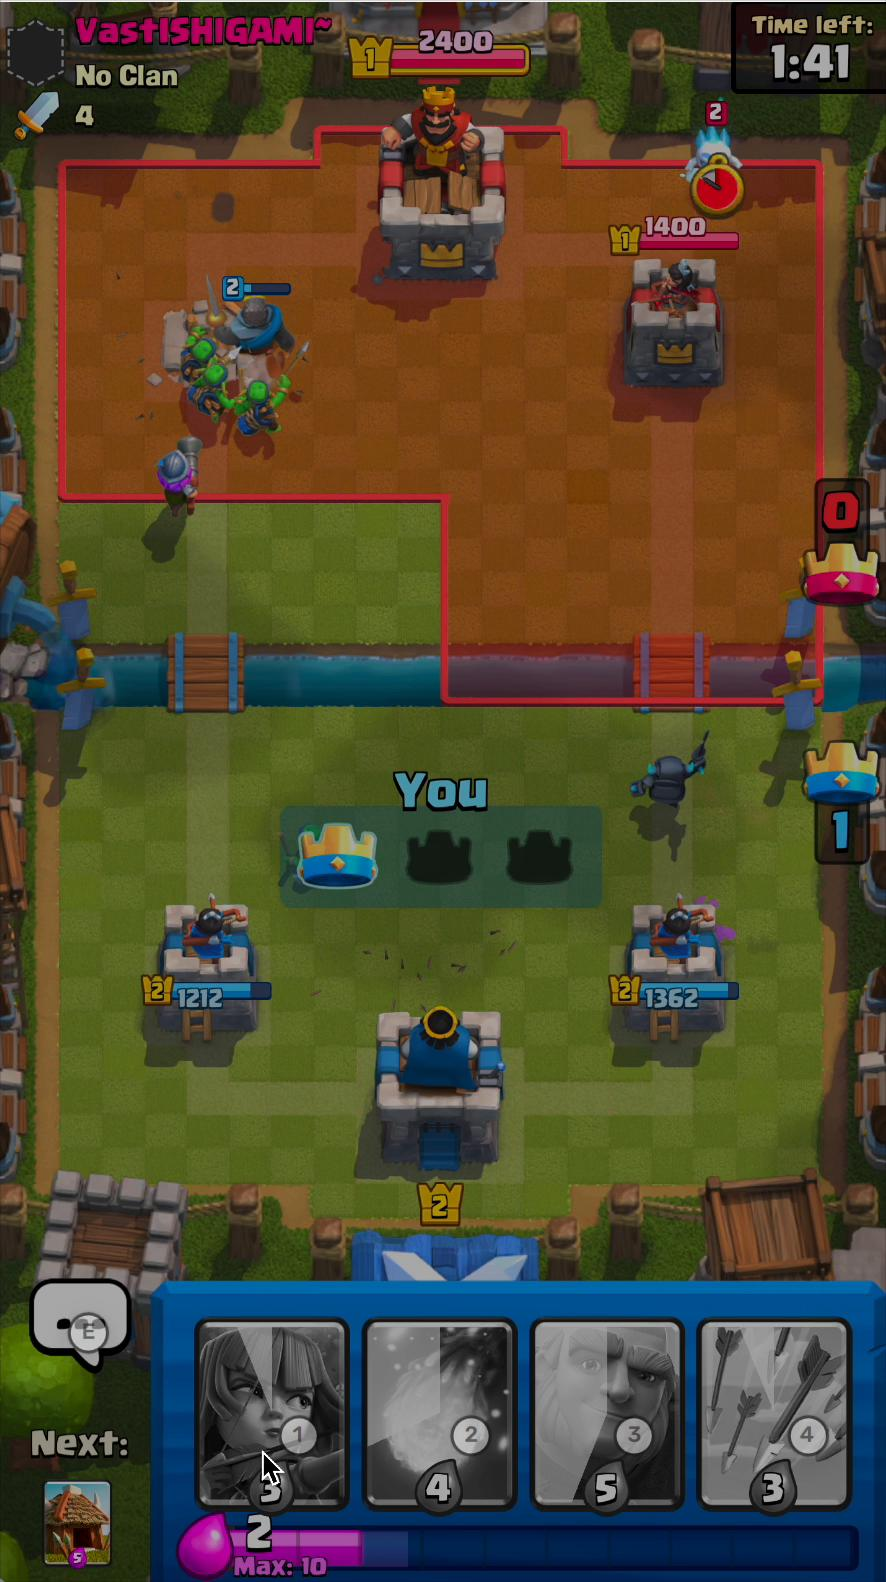chevalier: (199, 271, 314, 368)
gobelin_lances: (221, 367, 292, 456), (185, 365, 229, 424), (177, 324, 219, 385)
mini_PEKKA: (620, 739, 720, 821)
mousquetaire: (153, 417, 213, 528)
